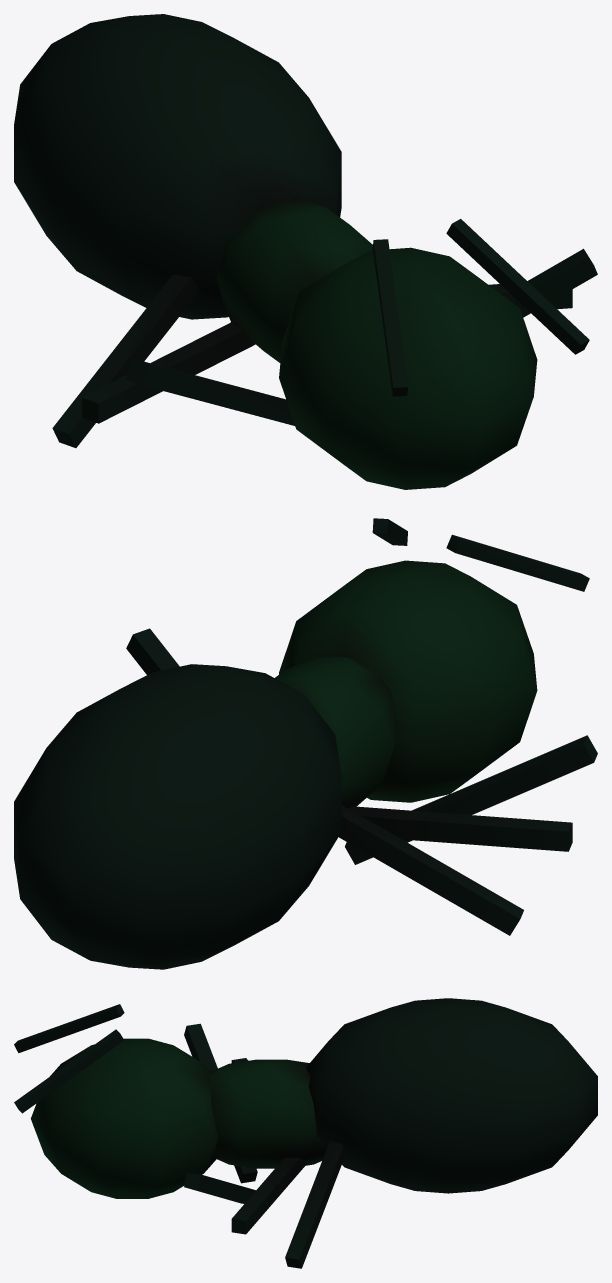
File: ant.glb
3 views of the same model, one above another, from view 1: azimuth 30°, elevation 25°; view 2: azimuth 150°, elevation 25°; view 3: azimuth 270°, elevation 25° (orthographic). The views are drawn at different scales.
Visible parts, largest first — view 1: ant; view 2: ant; view 3: ant.
Boxes of the visible parts, <box> form: ant: <box>14,14,597,489</box>; ant: <box>14,518,597,969</box>; ant: <box>14,998,597,1268</box>.
Bounding box in the file's own units: 0.2593 × 0.1375 × 0.3929.
Materials: 1 (1 with a texture image).
